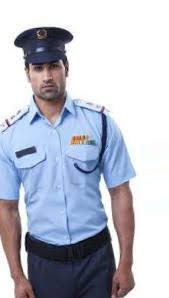uniform: (5, 22, 130, 286)
